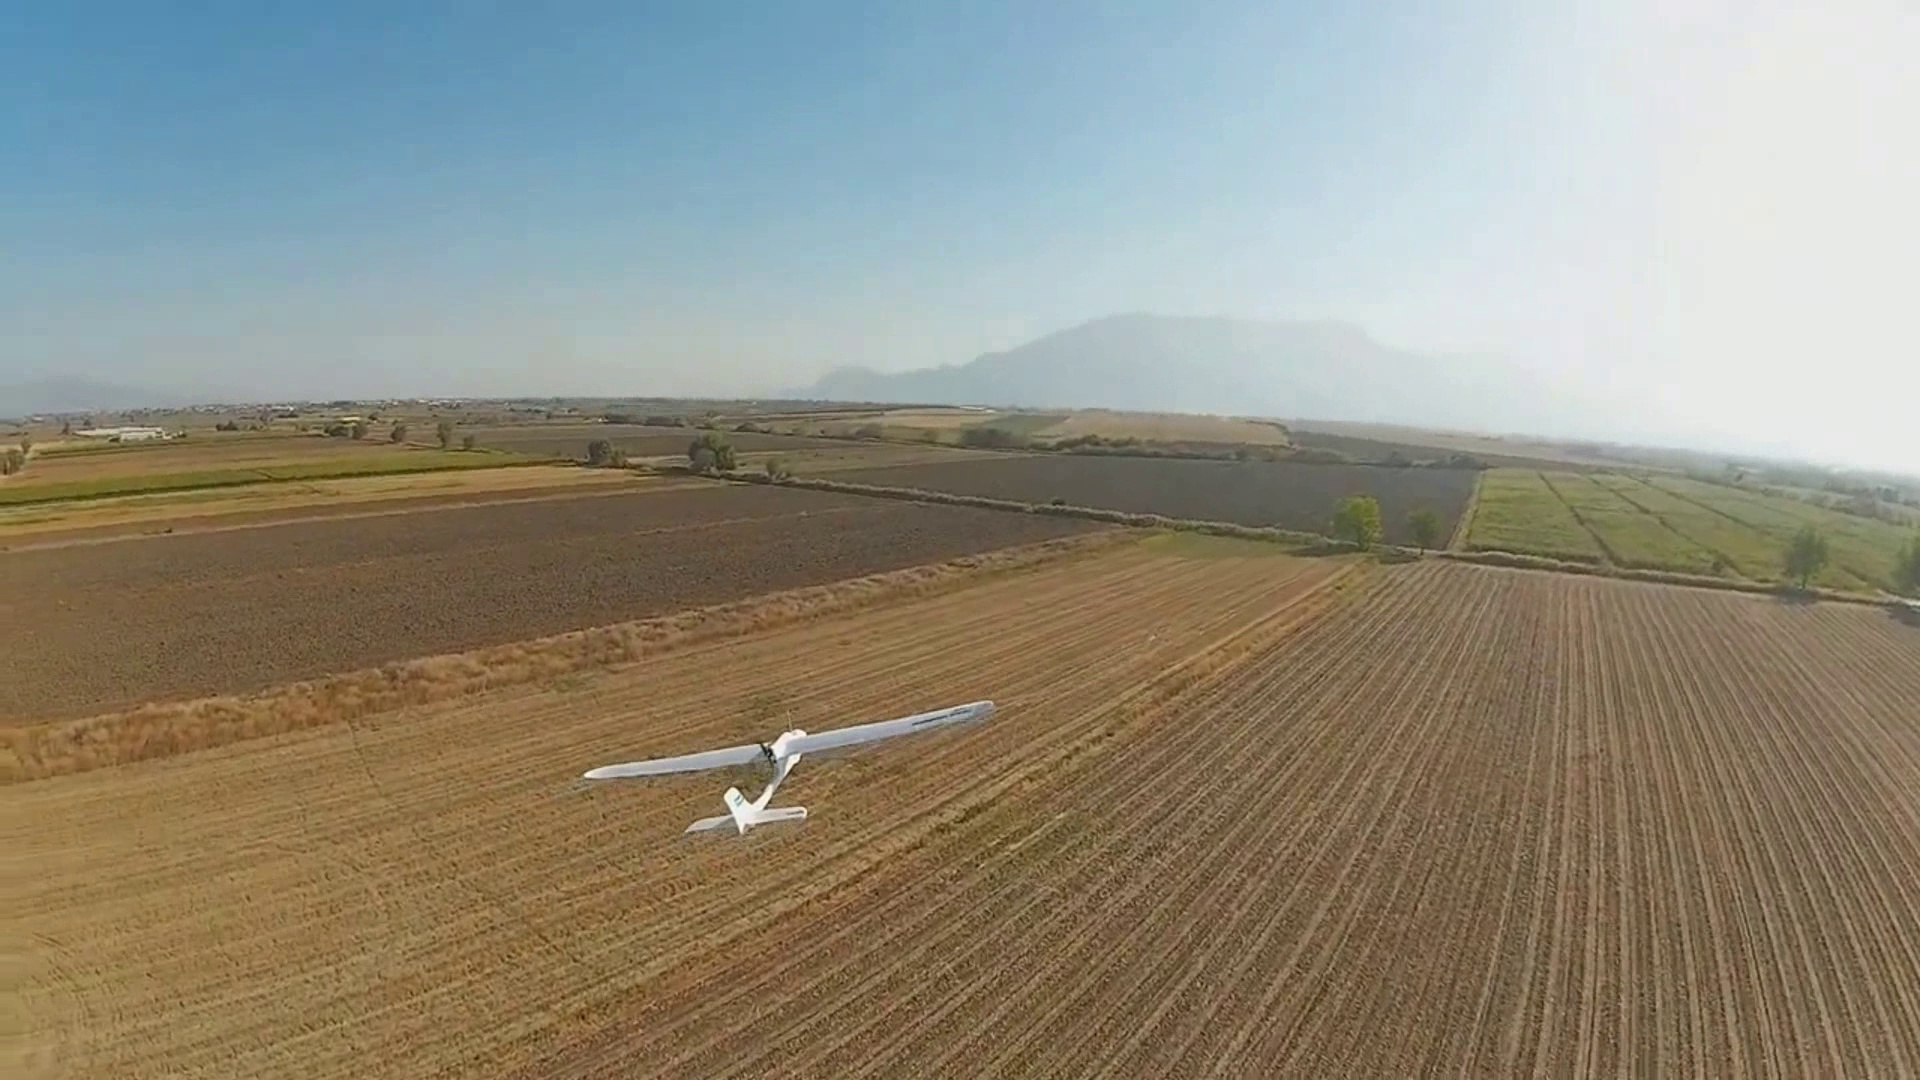airplane: (579, 698, 996, 837)
